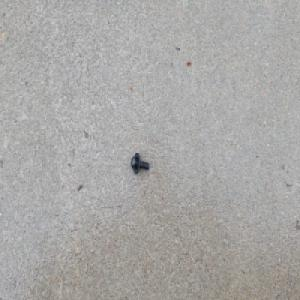BoltWasher: (130, 150, 150, 174)
